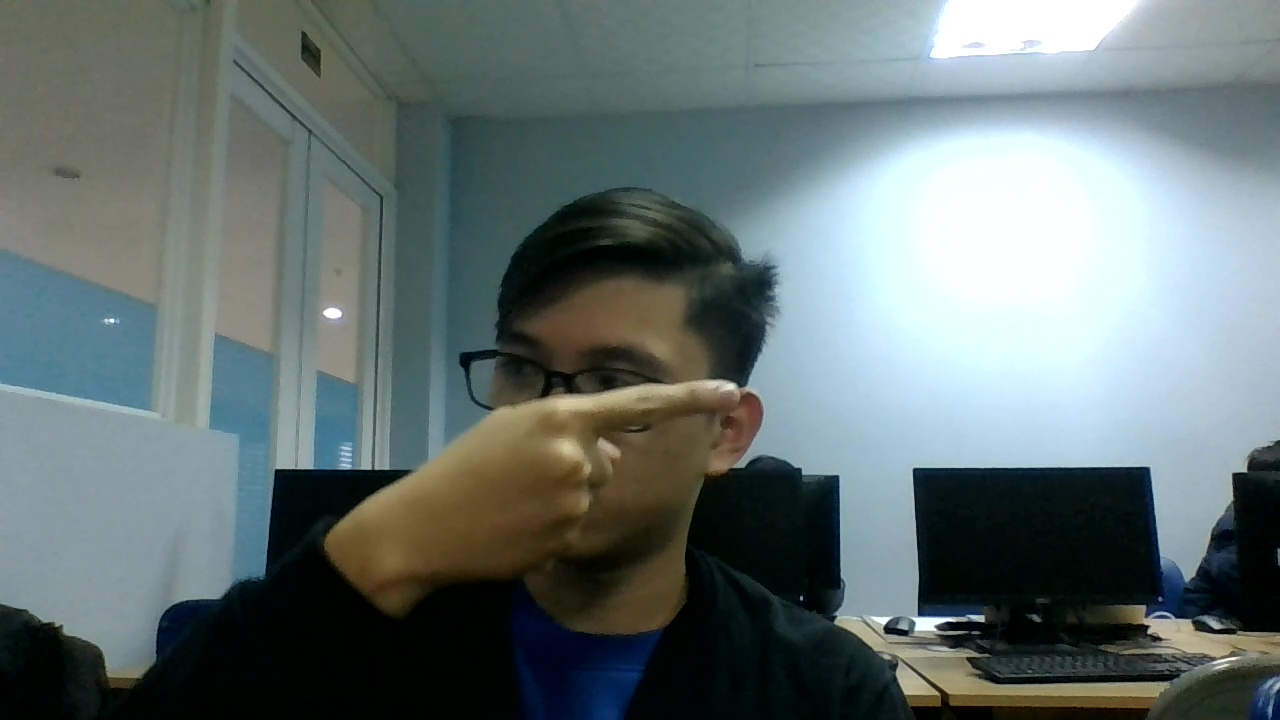left: (392, 370, 750, 597)
